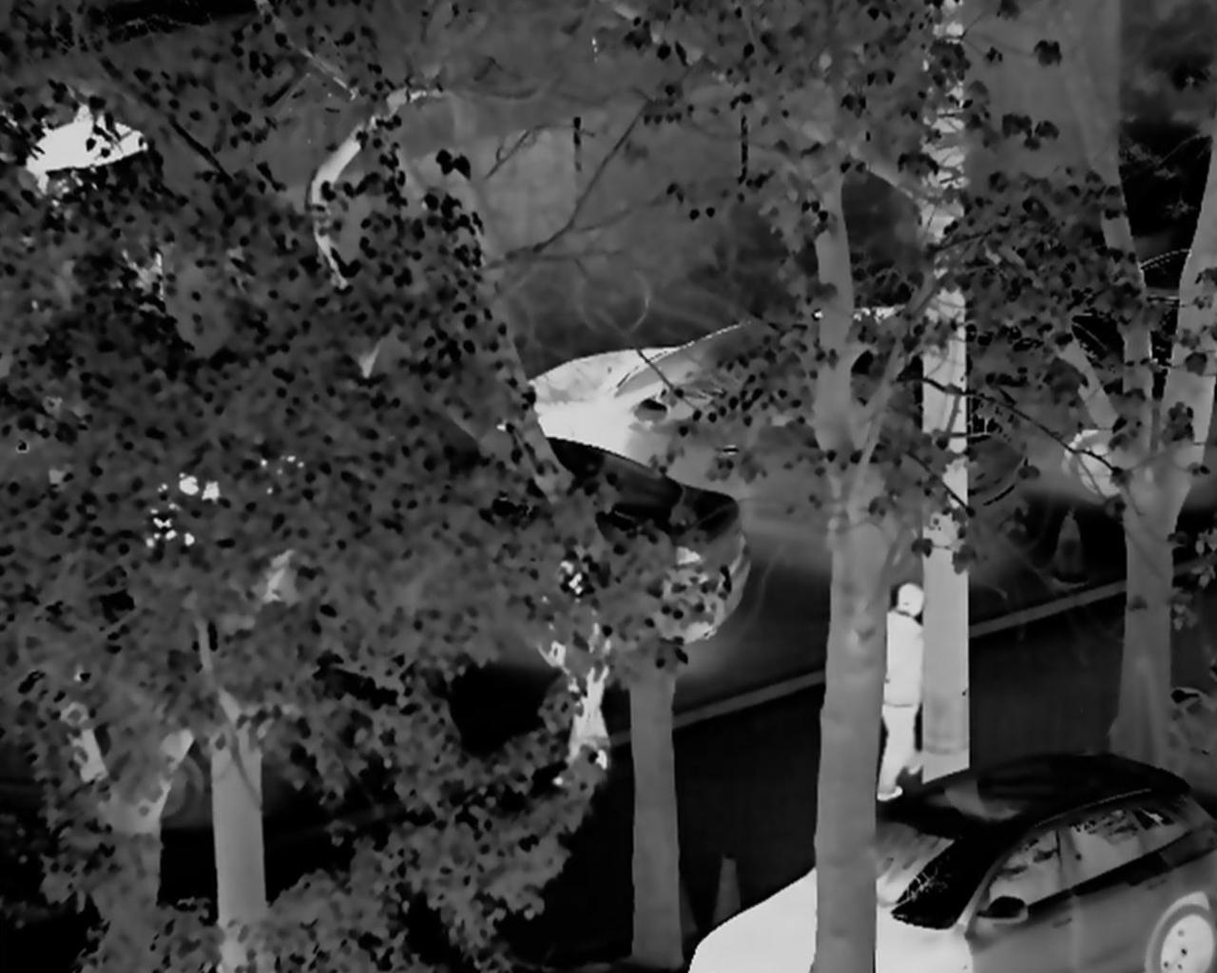person: (872, 584, 928, 795)
